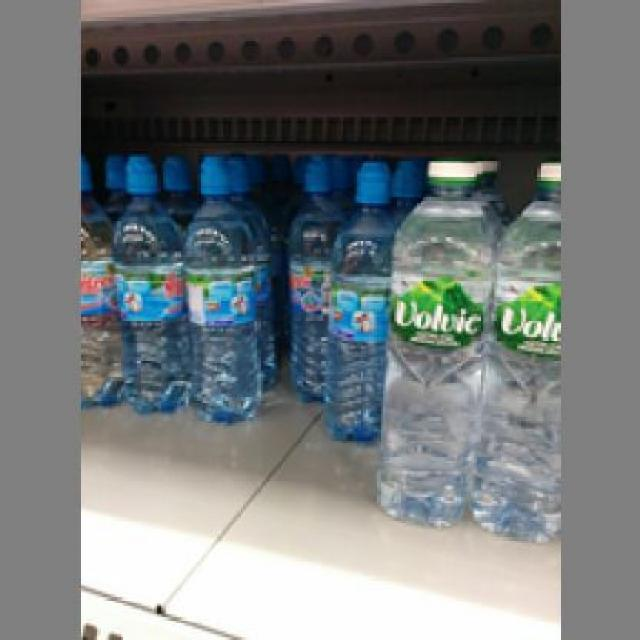Water: (374, 154, 489, 526), (474, 157, 557, 537), (111, 152, 186, 414), (182, 154, 255, 423), (332, 150, 388, 444), (282, 154, 338, 403)
